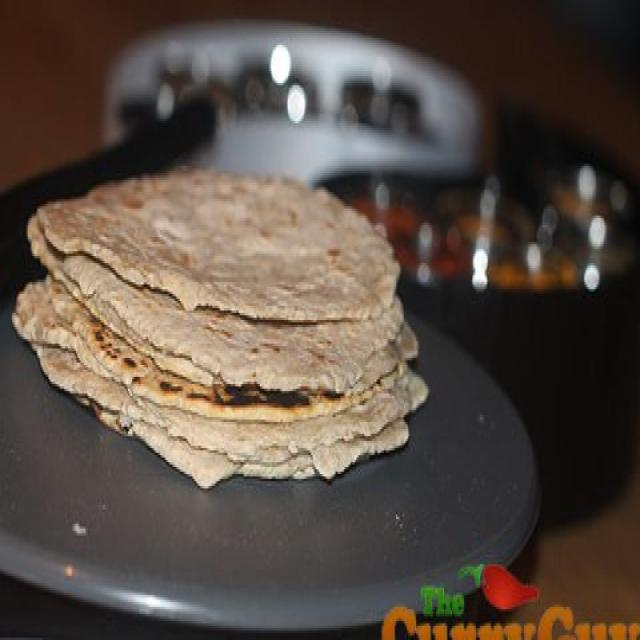CHAPATHI: (10, 169, 432, 491)
